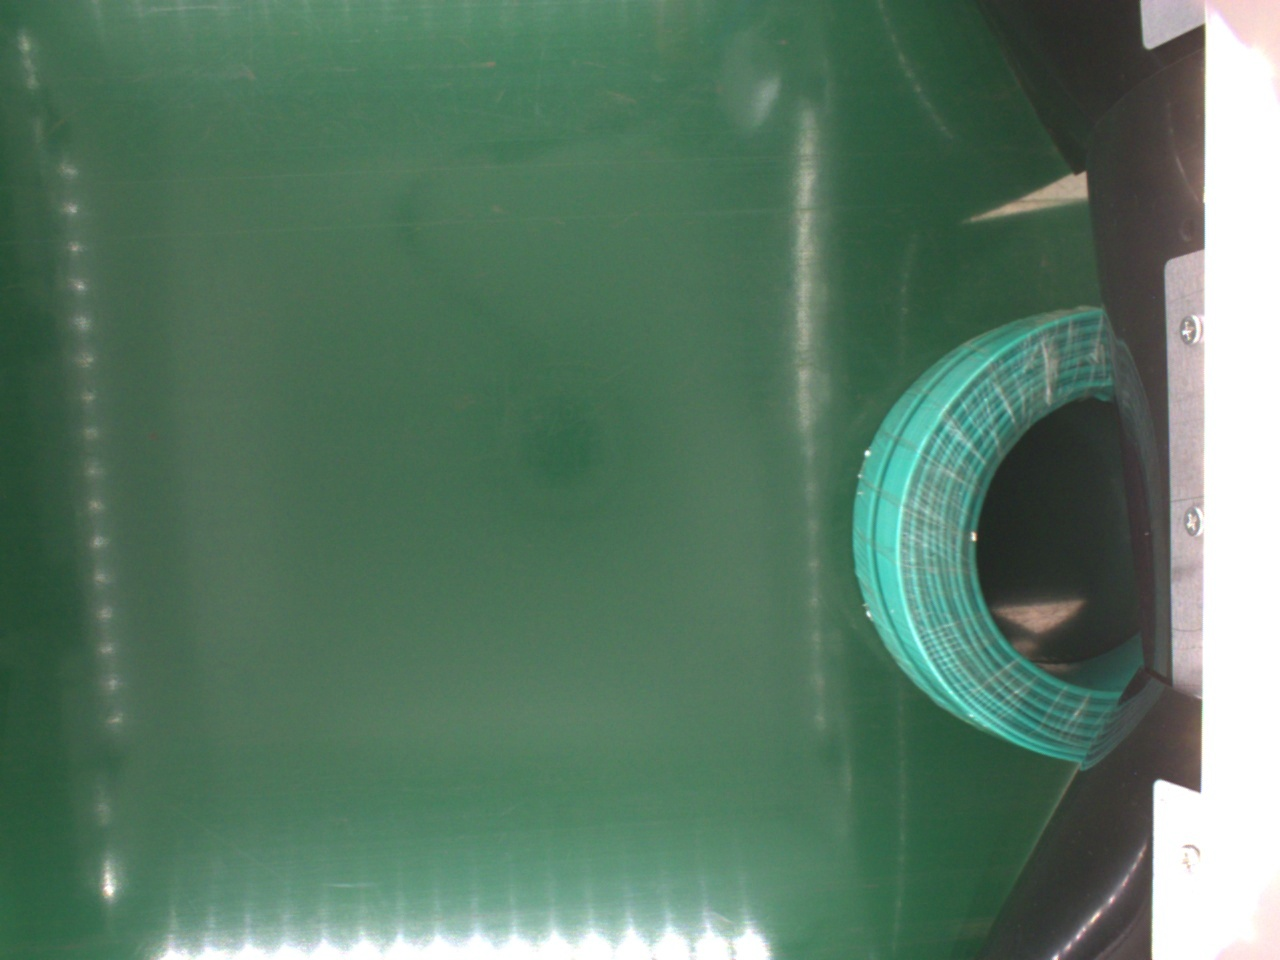green: (850, 305, 1138, 761)
